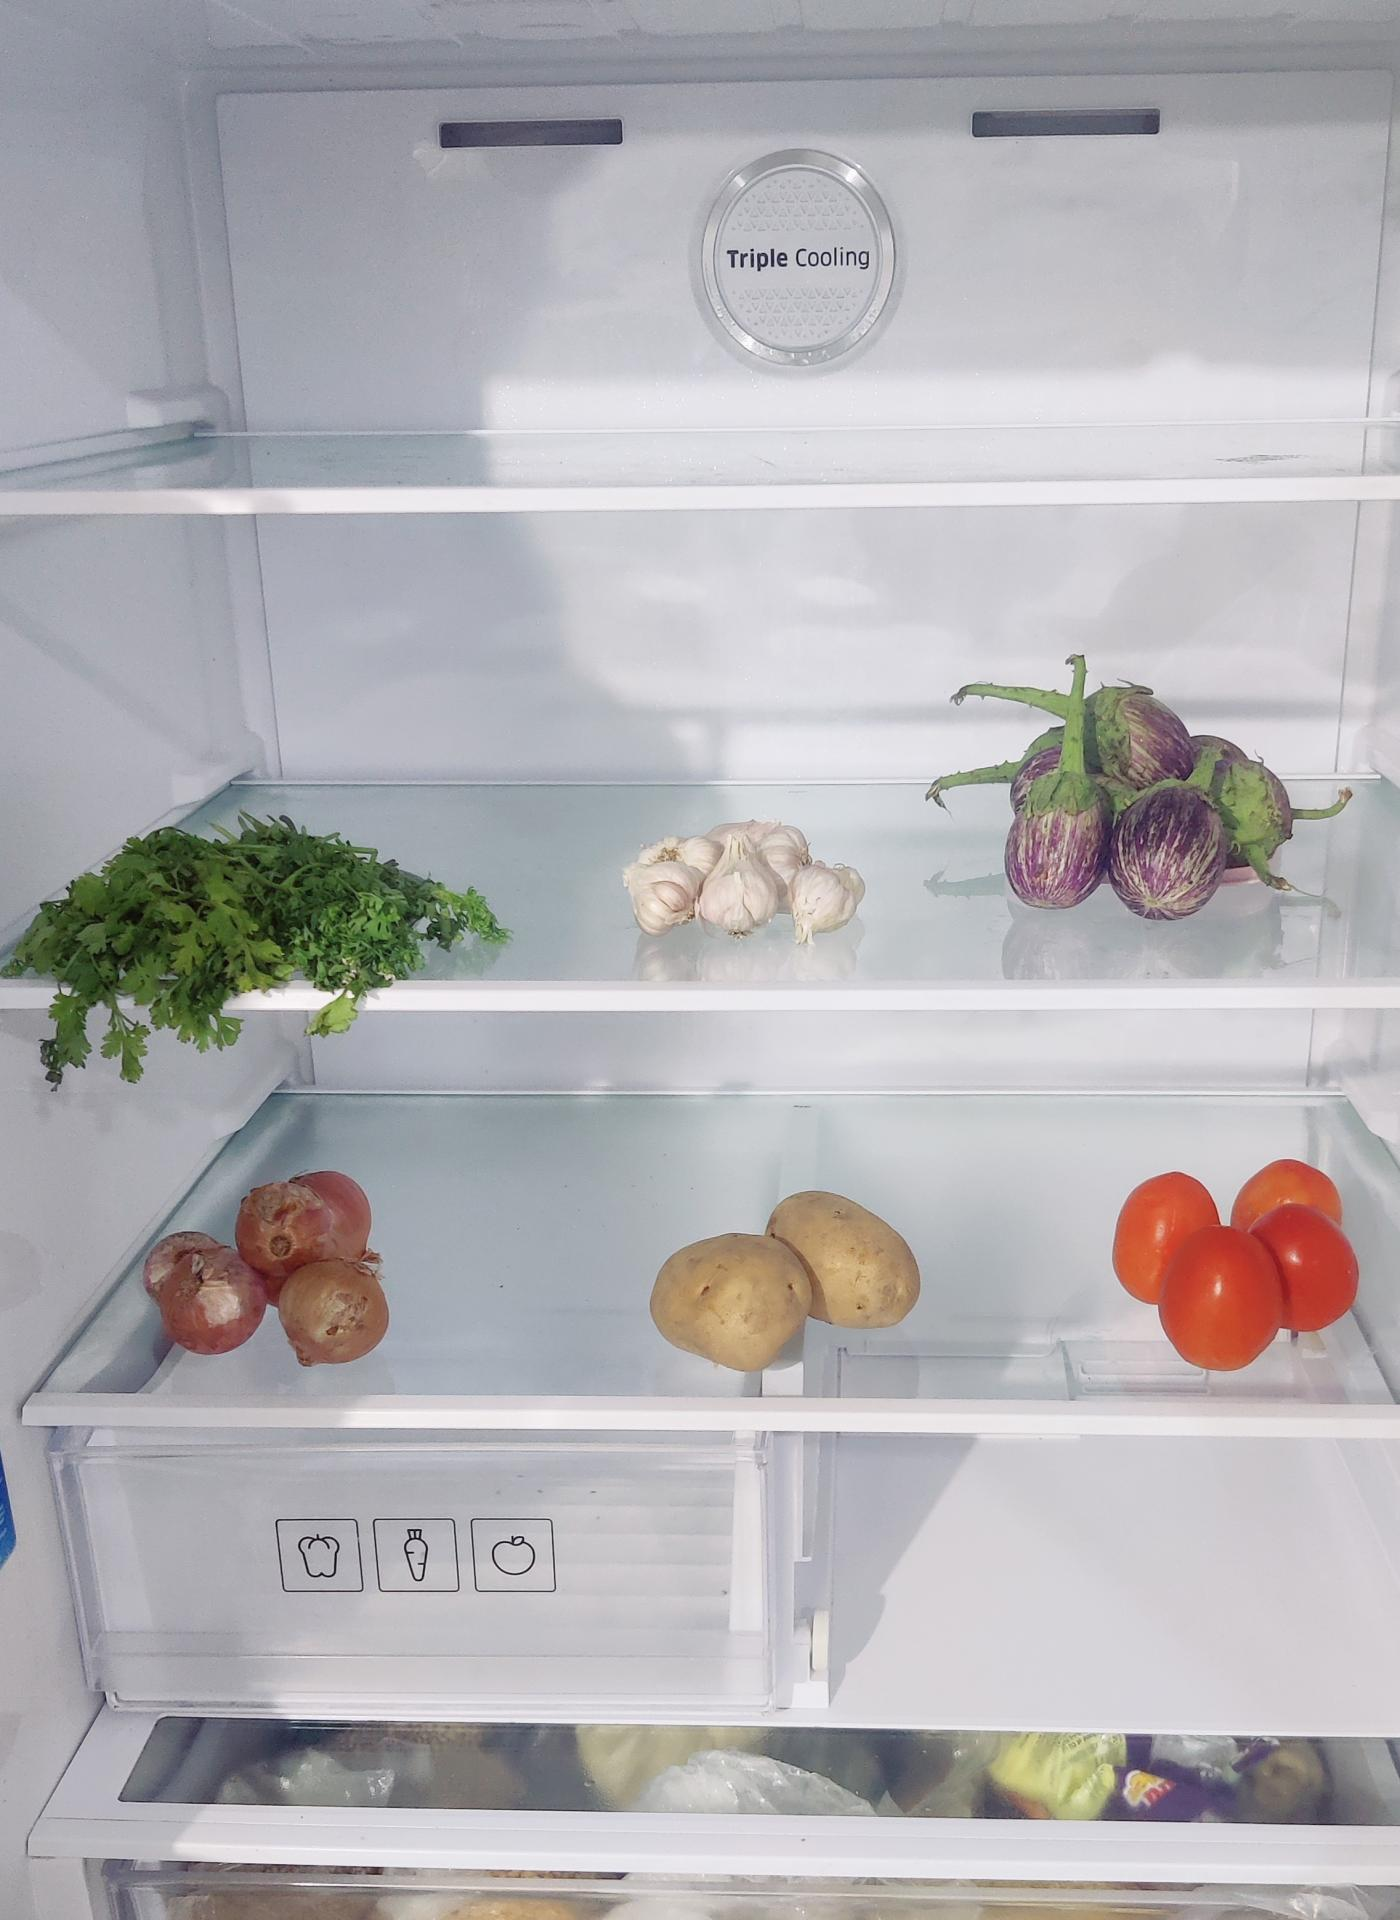brinjal: (980, 669, 1290, 912)
coriander: (25, 812, 498, 1020)
garlic: (626, 812, 869, 941)
onion: (149, 1167, 395, 1357)
potato: (653, 1188, 929, 1370)
tomato: (1114, 1158, 1364, 1371)
